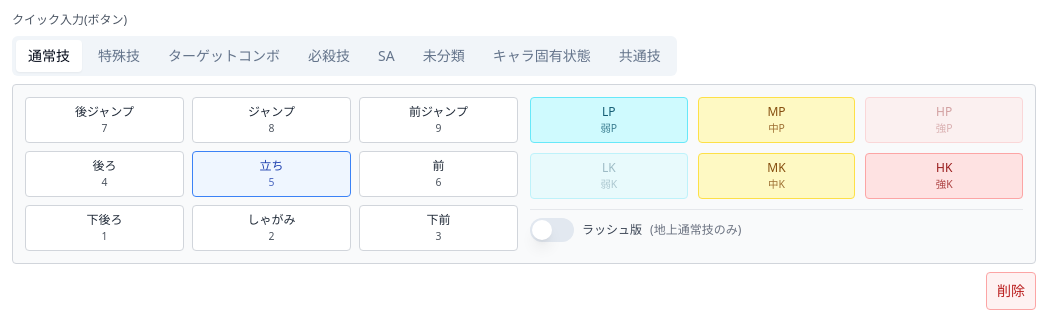
Test: VirtualController(タブ式クイック入力・M15-03) › ラッシュ ON で上系方向(7/8/9)がすべて無効化される(M17-03)
This screenshot has width=1048, height=327.
Click the switch named "ラッシュ版トグル".
click(552, 230)  # box [530,218,574,242]
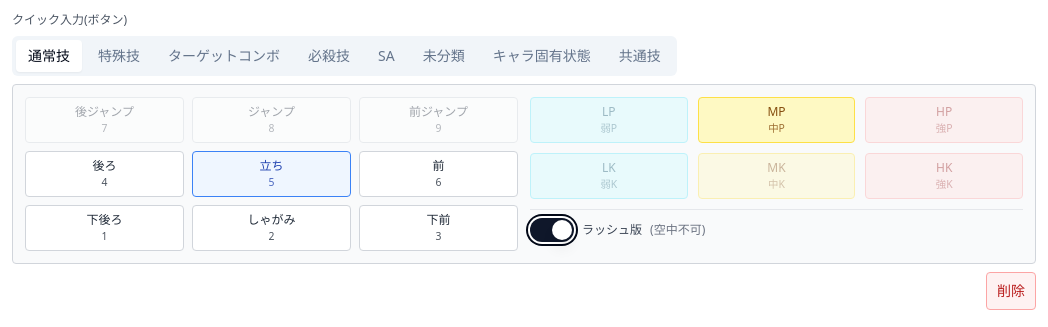
Now the button with test id "recipe-dir-7" is disabled, box [25,97,184,143]
Now the button with test id "recipe-dir-8" is disabled, box [192,97,351,143]
Now the button with test id "recipe-dir-9" is disabled, box [359,97,518,143]
